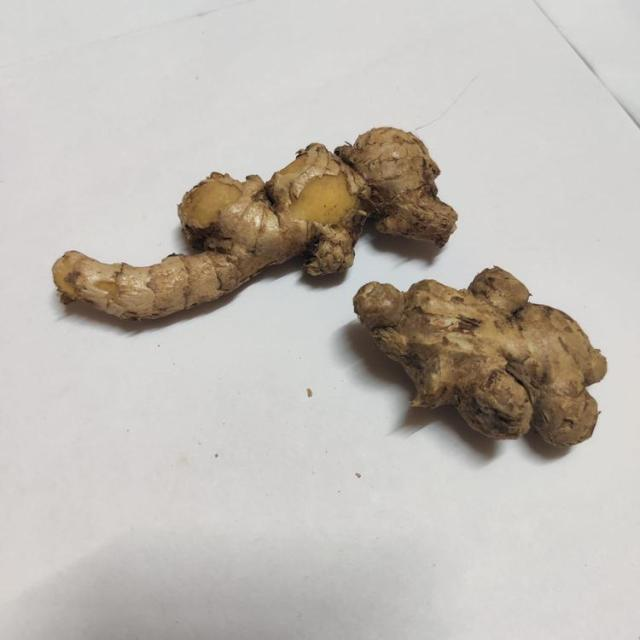Organik: (51, 117, 462, 331), (352, 265, 616, 472)
